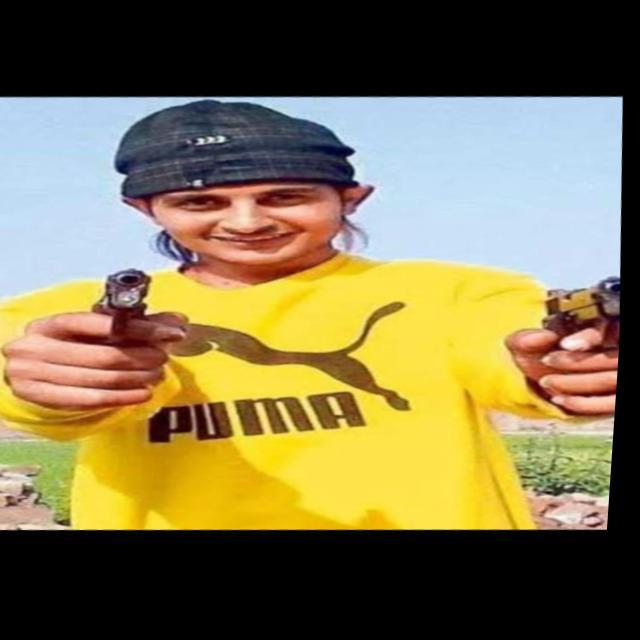weapon: (42, 259, 192, 416), (518, 263, 628, 419)
